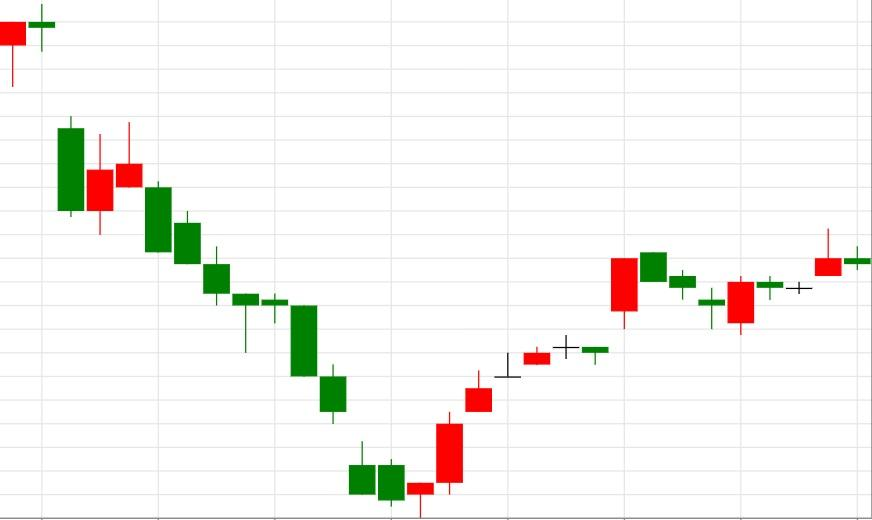bullish_engulfing_rise: (639, 251, 754, 335)
three_white_soldiers_rise: (116, 121, 492, 520)
